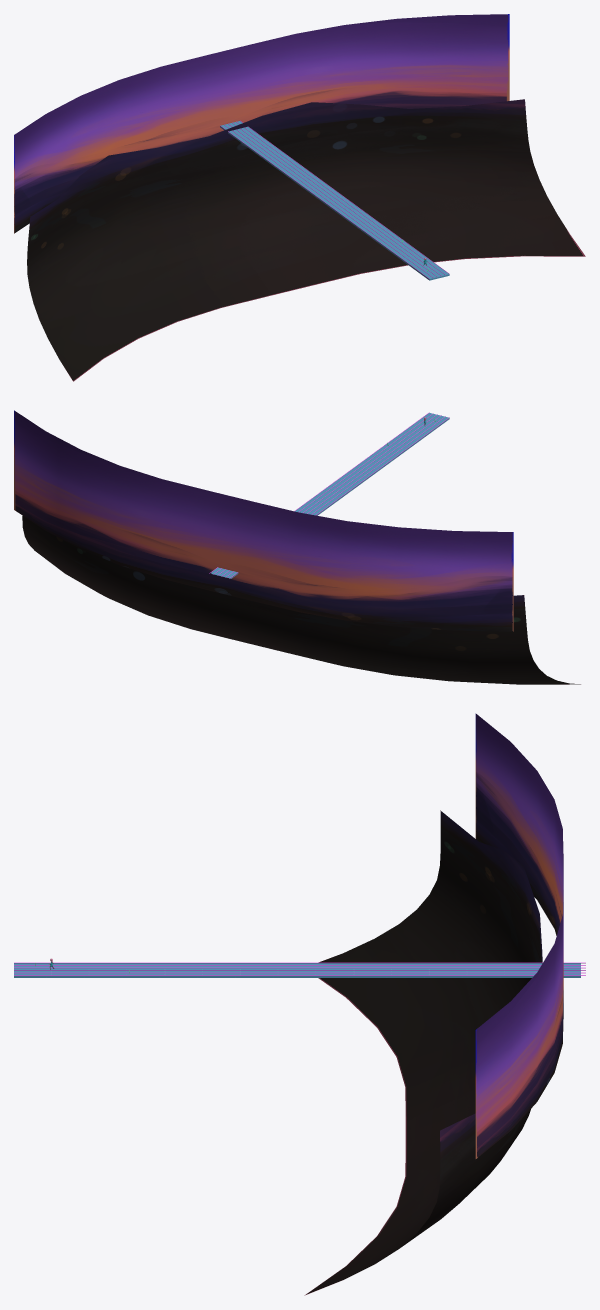
The picture shows the model from 3 angles, top to bottom: view 1: azimuth 30°, elevation 25°; view 2: azimuth 150°, elevation 25°; view 3: azimuth 270°, elevation 25°; orthographic projection. The views are drawn at different scales.
Visible parts, largest first — view 1: Ground, Sky, Path, Path_Strings; view 2: Sky, Ground, Path, Path_Strings; view 3: Ground, Sky, Path, Path_Strings.
Boxes of the visible parts, bbox=[...] form: Ground: bbox=[27, 99, 585, 381]; Sky: bbox=[14, 14, 509, 233]; Path: bbox=[220, 121, 449, 280]; Path_Strings: bbox=[220, 120, 449, 278]; Sky: bbox=[14, 410, 513, 631]; Ground: bbox=[22, 516, 580, 684]; Path: bbox=[211, 413, 449, 578]; Path_Strings: bbox=[209, 412, 449, 578]; Ground: bbox=[304, 810, 542, 1295]; Sky: bbox=[475, 713, 563, 1158]; Path: bbox=[14, 963, 580, 977]; Path_Strings: bbox=[14, 962, 585, 975].
Size of the model in its own units: 117 by 42.92 by 85.98.
9 materials, 9 textured.
